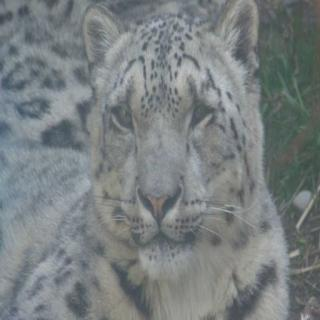Leopard: (45, 0, 294, 318)
